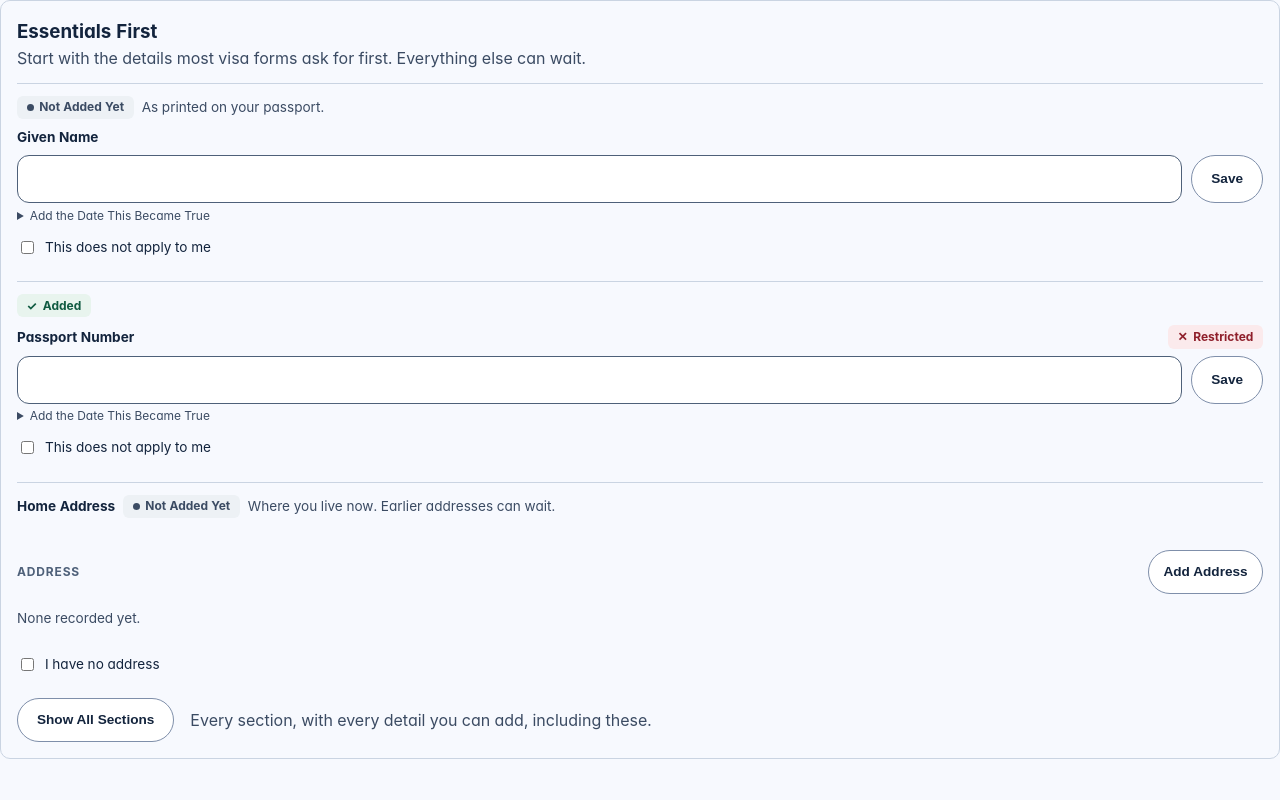
Test case: Essentials First (owner finding 5) › shows every section and the full count behind Show All Sections, and comes back
Click the button "Show All Sections" at {"x": 96, "y": 720}, box left=17, top=698, right=174, bottom=742
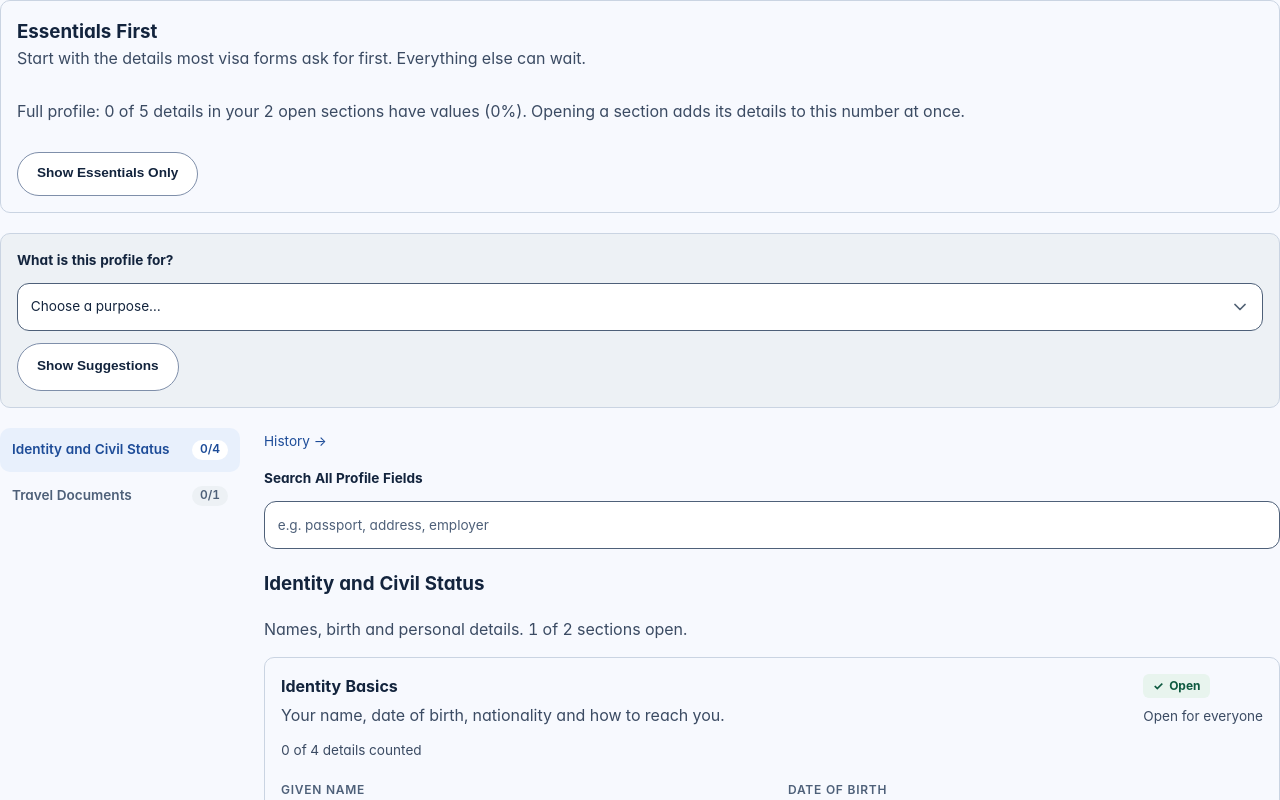
Result: the element showing "Identity and Civil Status 0/4 Travel Documents 0/1" is shown at left=0, top=428, right=240, bottom=518
Result: the search field labelled "Search All Profile Fields" is shown at left=264, top=501, right=1279, bottom=549
Result: the text "Full profile: 0 of 5 details in your 2 open sections have values (0%)." is shown at left=17, top=101, right=965, bottom=121
Click the button "Show Essentials Only" at {"x": 108, "y": 174}, box left=17, top=152, right=198, bottom=196
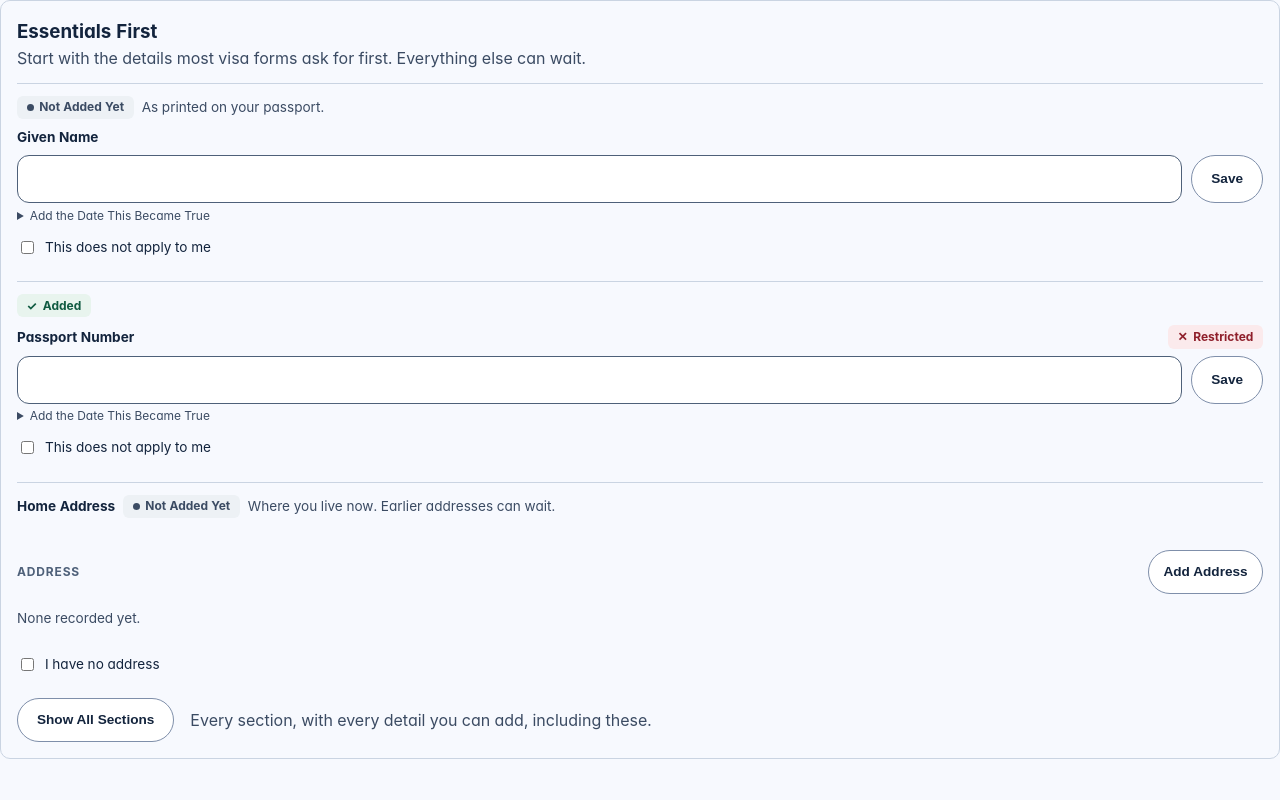
Result: the number of fields with id "f-given_name" is 1 at left=17, top=155, right=1182, bottom=203
